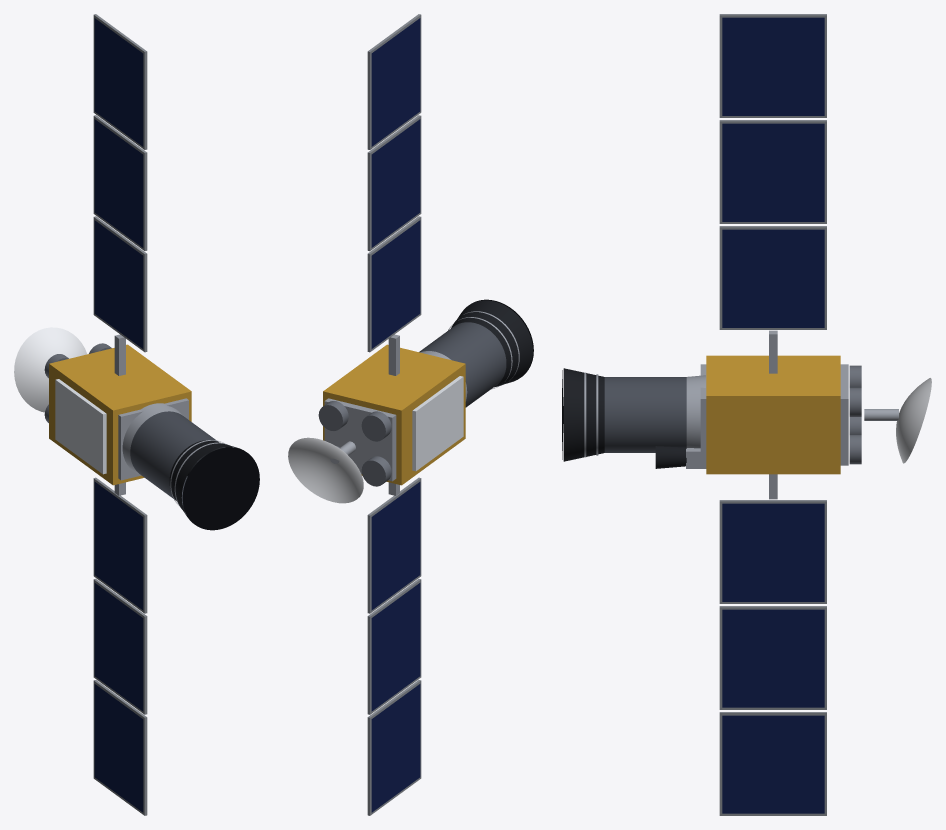
Rendered from satellite.obj.
3 renders of one model, left to right at view 1: azimuth 30°, elevation 25°; view 2: azimuth 150°, elevation 25°; view 3: azimuth 270°, elevation 25°, orthographic. The views are drawn at different scales.
Parts seen in each view (by area): view 1: Satellite; view 2: Satellite; view 3: Satellite.
Part boxes in pixels (bbox=[...]): Satellite: bbox=[14, 14, 259, 815]; Satellite: bbox=[288, 14, 533, 815]; Satellite: bbox=[562, 14, 931, 815].
Bounding box in the file's own units: 1.16 × 10.2 × 4.27.
